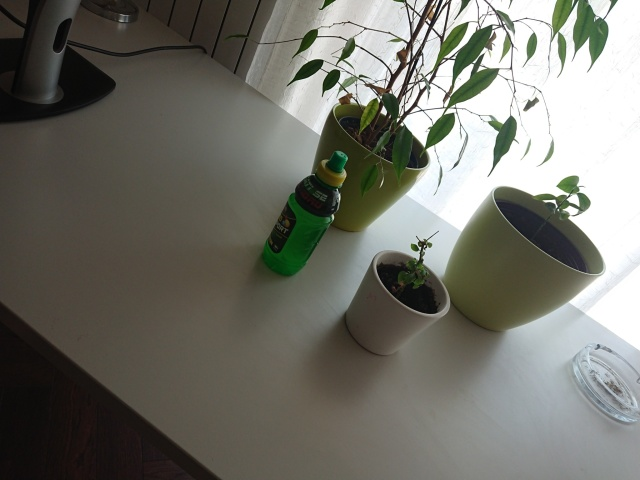Vindi Iso Sport Lemon-Grapefruit 500mL: (259, 149, 350, 279)
